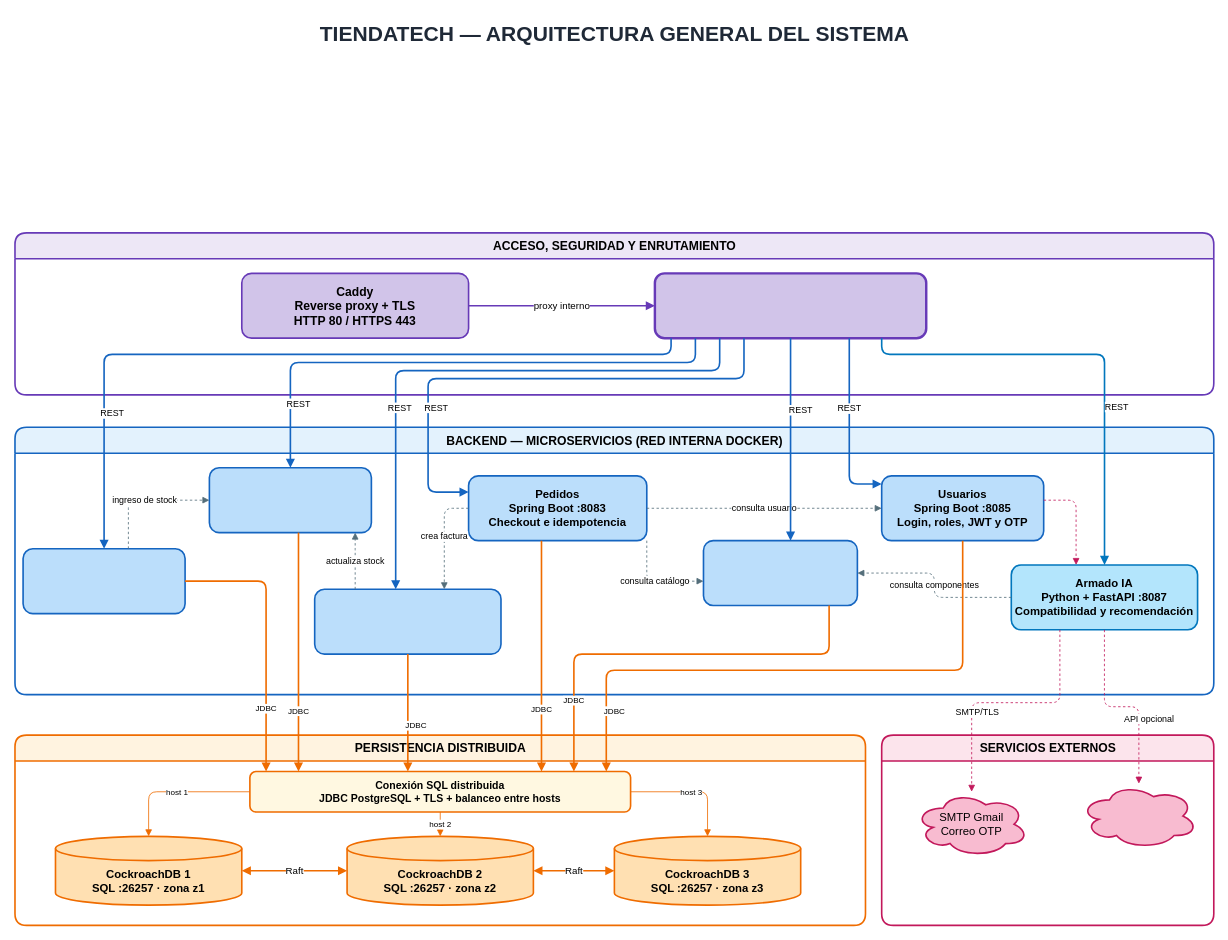
Image size: 1228x940. Some labels were removed from this diagram. Here are the shapes that lost their labels. From the top down, the centre of each, then its label:
At point 790,305: "Frontend / API Gateway Spring Boot :8080 (host :8180) Rutas REST + filtro JWT".
At point 290,500: "Inventario Spring Boot :8082 Stock y movimientos".
At point 103,581: "Órdenes a proveedores Spring Boot :8084 Abastecimiento".
At point 780,572: "Productos Spring Boot :8081 Catálogo e imágenes".
At point 407,621: "Ventas Spring Boot :8086 Facturas y outbox".
At point 1138,815: "Amazon Bedrock Explicación IA".
